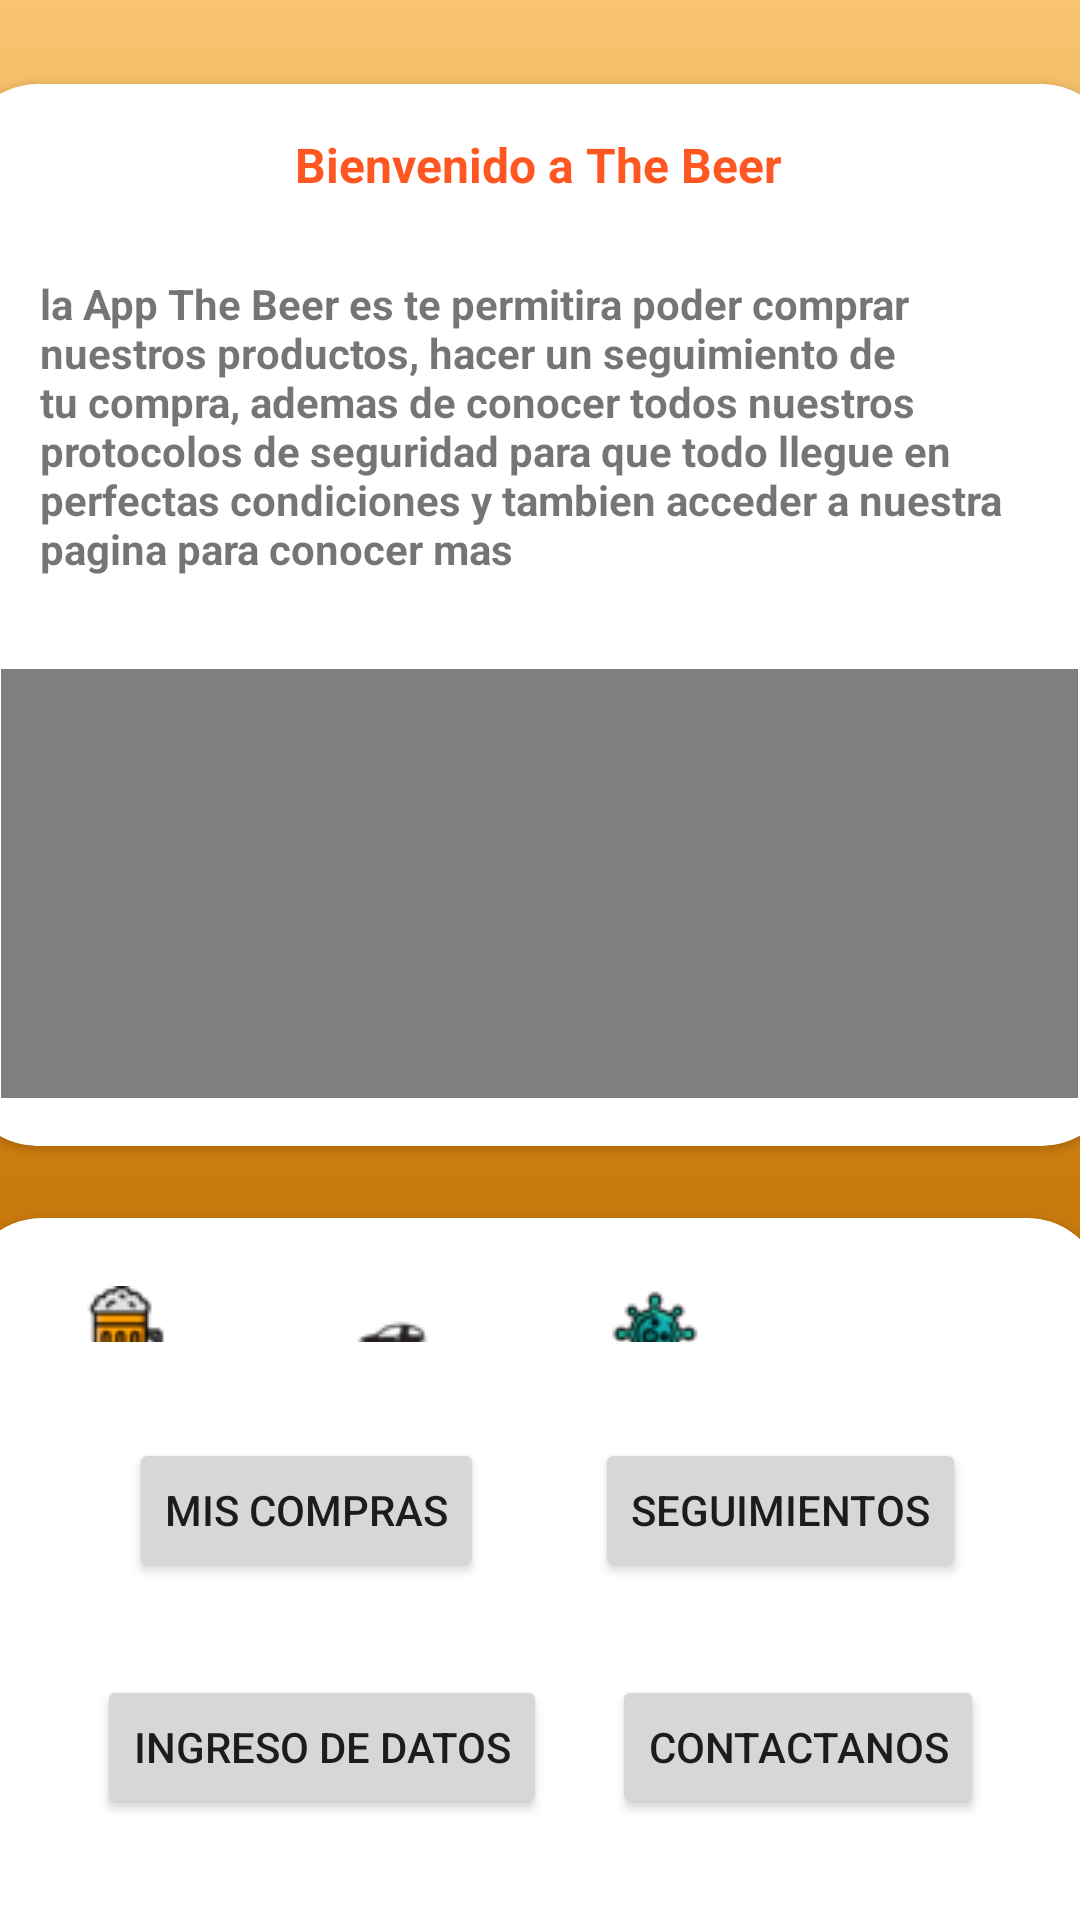

Named icons in this screenshot (1080x1920) and their bounding boxes, (x1, y1, x2, y2):
auto: (358, 1322, 427, 1342)
covid: (612, 1291, 698, 1342)
